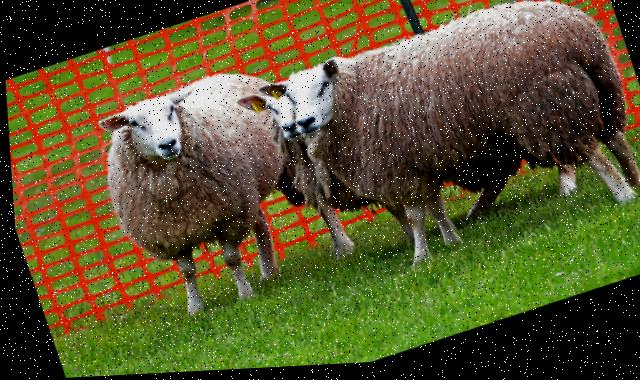sheep: (273, 0, 640, 287), (64, 48, 347, 335)
